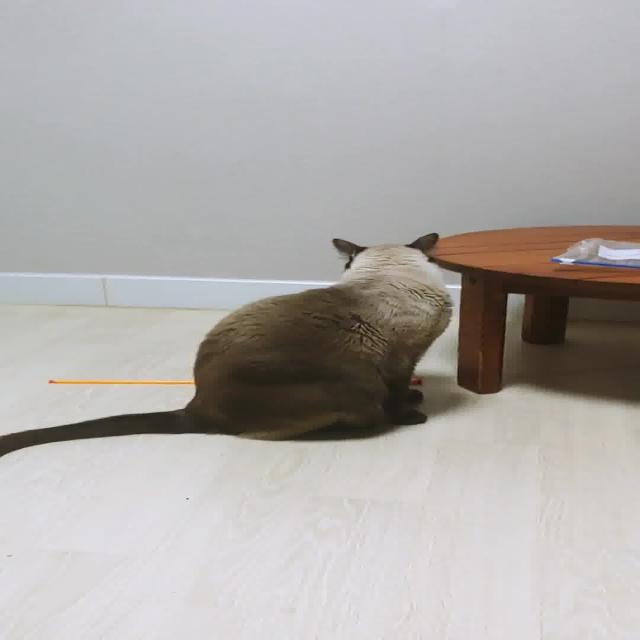cat: (6, 191, 478, 476)
